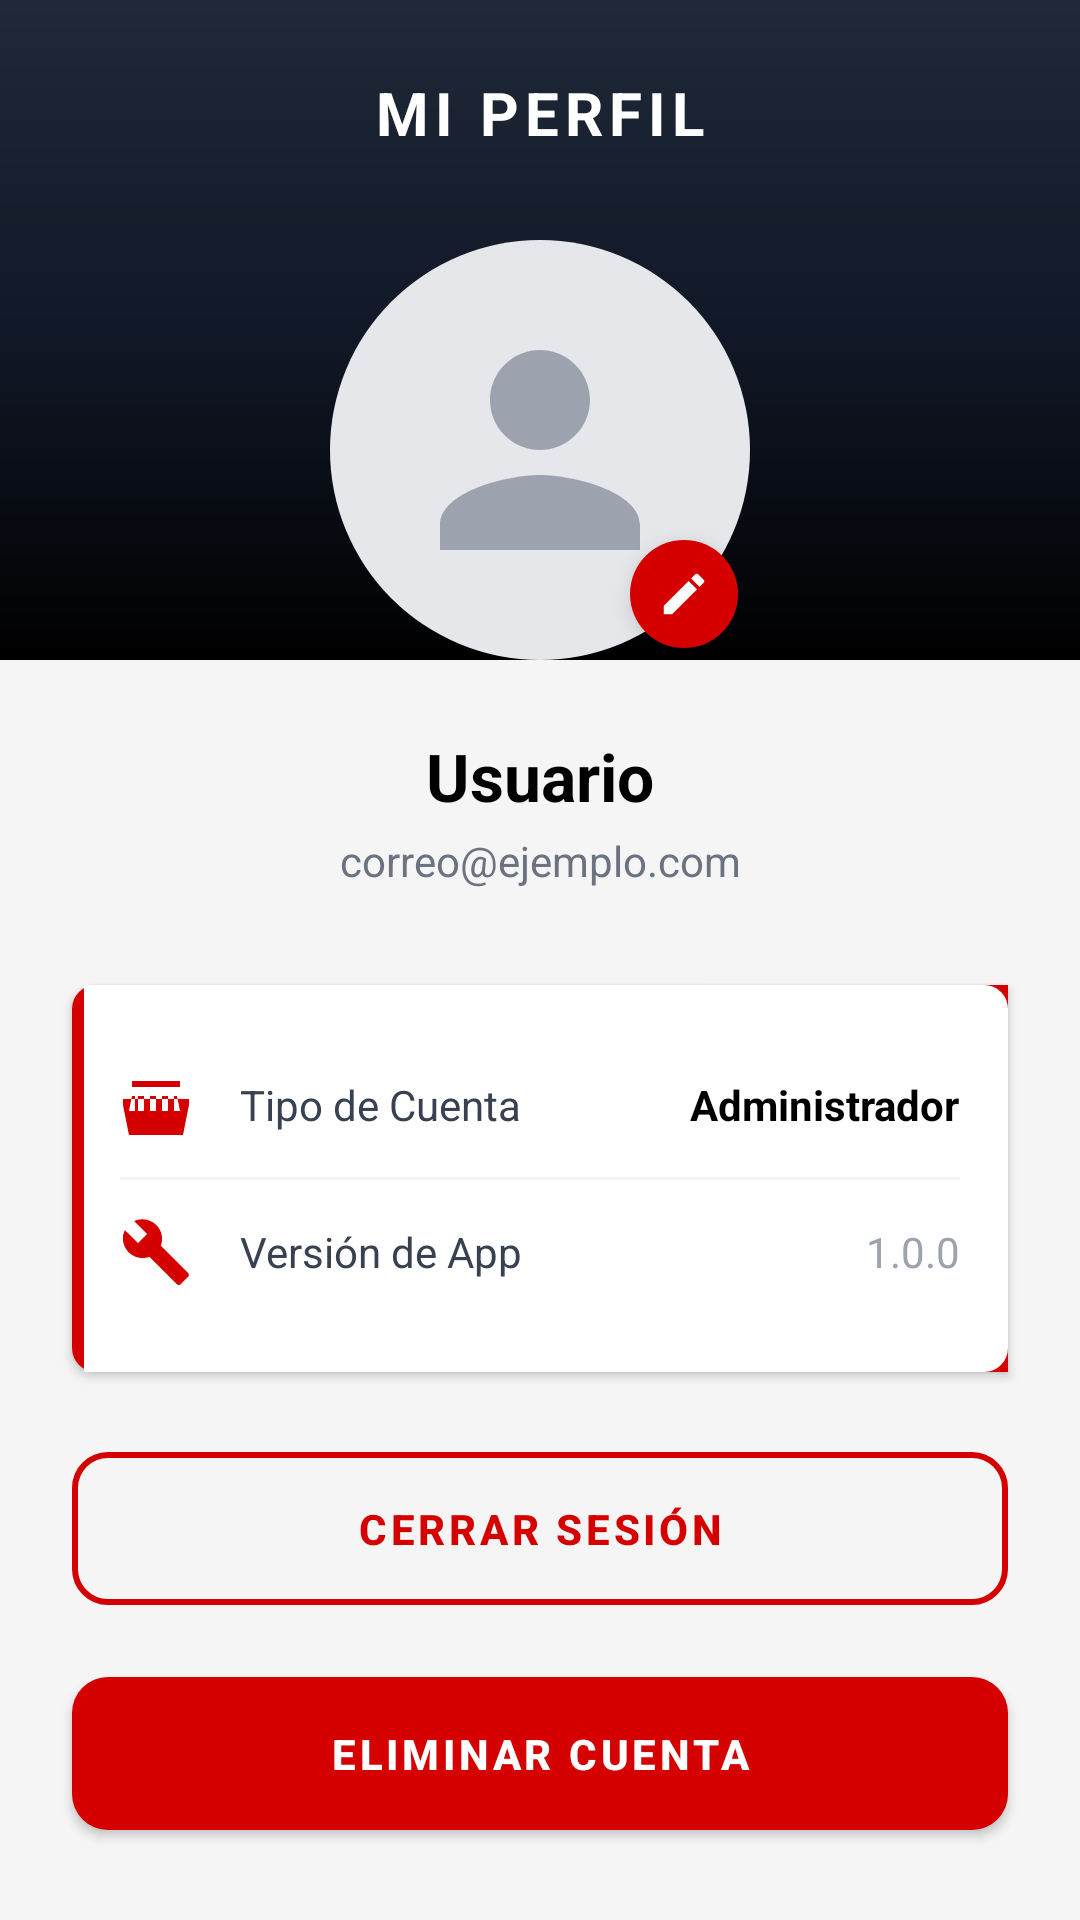

Icon bounding boxes for this 1080w x 1920h phone screenshot, format (x1, y1, x2, y2):
store: (123, 1081, 189, 1135)
tools: (123, 1219, 189, 1285)
